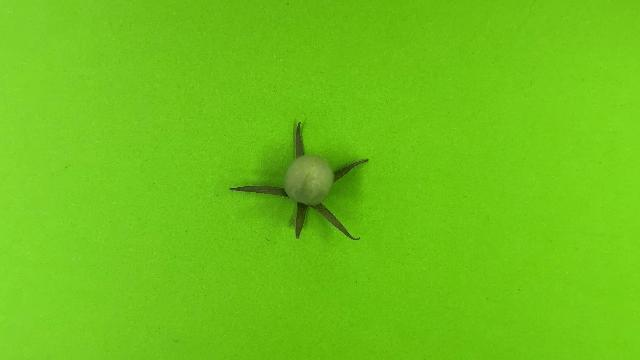Fruit Maturation: (282, 153, 336, 206)
